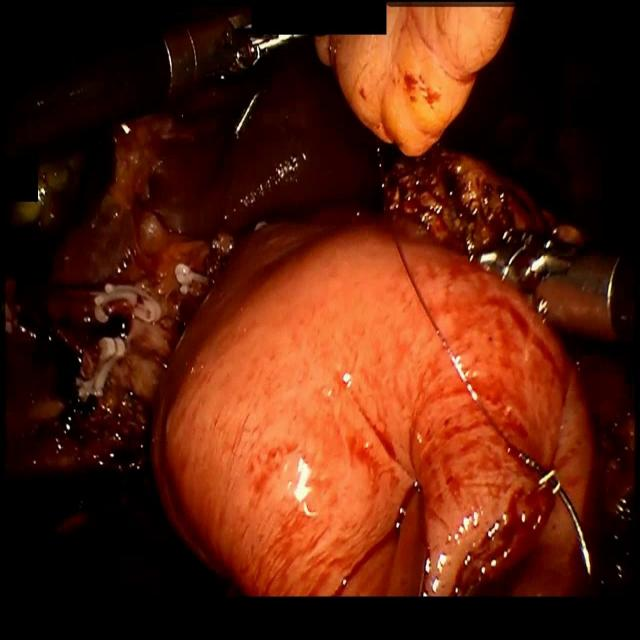surgical-area: (2, 1, 636, 592)
surgical-tool: (0, 5, 304, 162), (474, 228, 636, 337)
